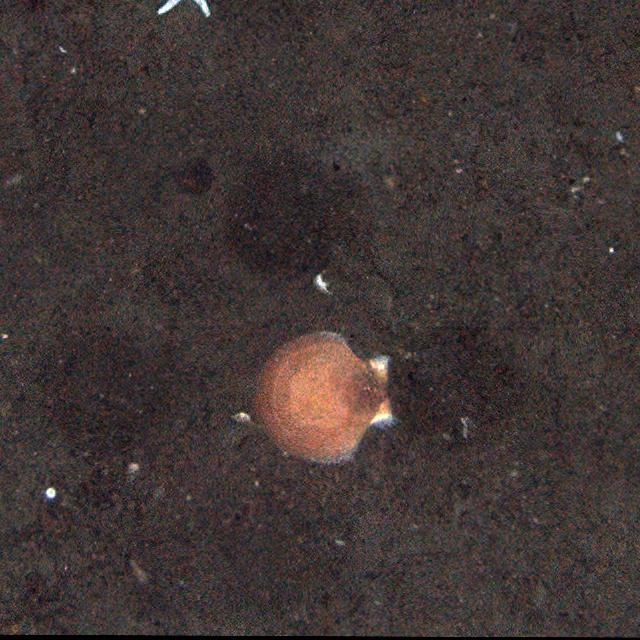scallop: (255, 325, 396, 464)
